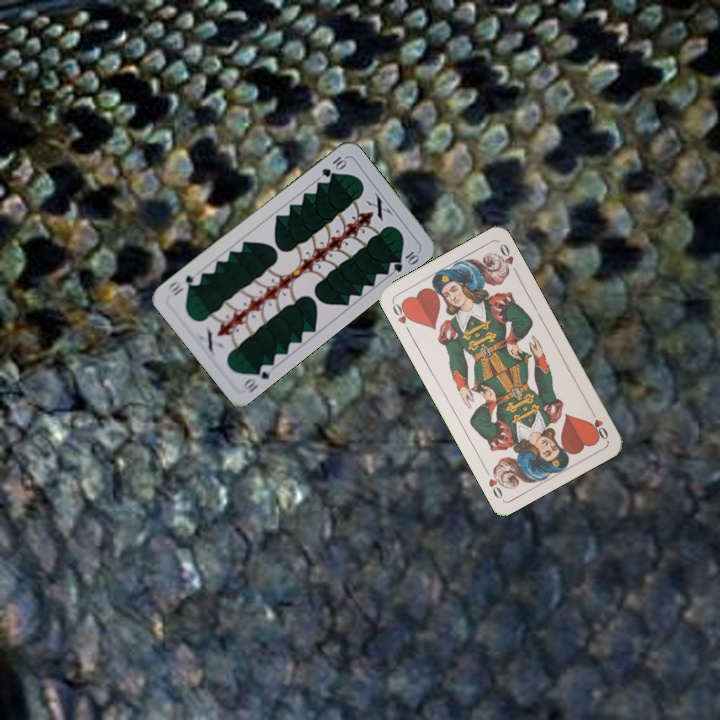G10: (240, 360, 276, 395), (318, 152, 349, 180)
HO: (388, 298, 415, 336), (586, 405, 611, 442)
